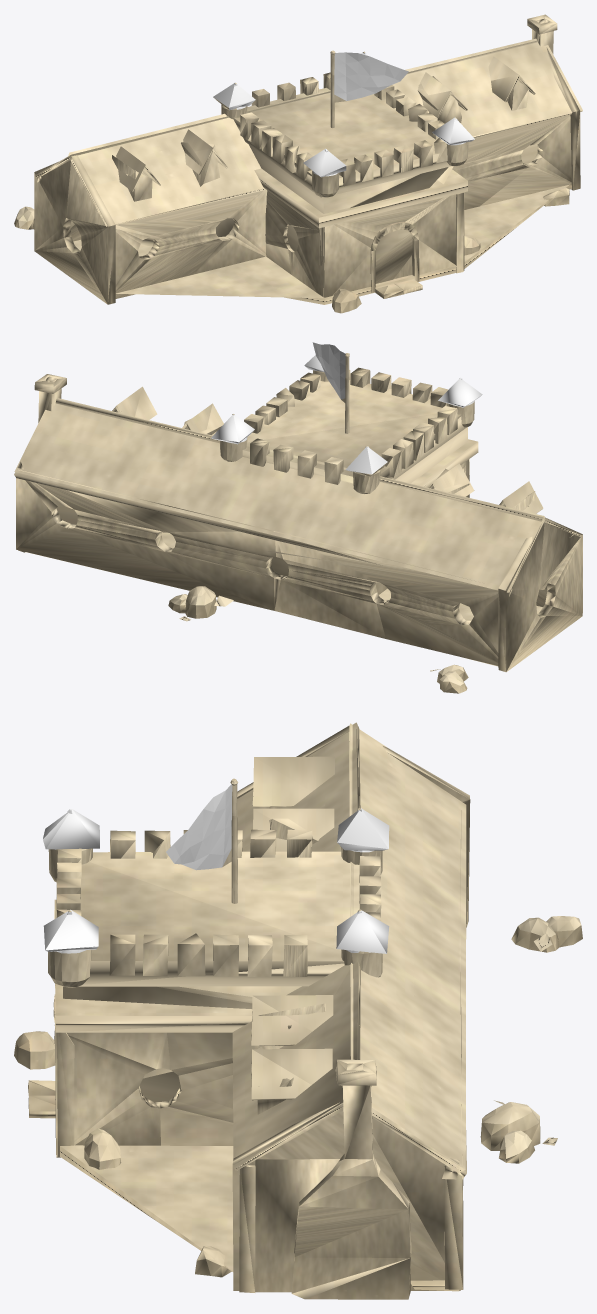
3 renders of one model, top to bottom at view 1: azimuth 30°, elevation 25°; view 2: azimuth 150°, elevation 25°; view 3: azimuth 270°, elevation 25°, orthographic. The views are drawn at different scales.
Visible parts, largest first — view 1: castle_d1.8; view 2: castle_d1.8; view 3: castle_d1.8.
Boxes of the visible parts, x1,y1,x2,y2 form: castle_d1.8: (14, 14, 582, 313); castle_d1.8: (14, 342, 582, 693); castle_d1.8: (14, 722, 582, 1299).
Bounding box in the file's own units: 2.9 × 1.14 × 1.85.
2 materials, 1 textured.
